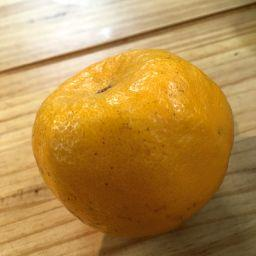Ripe: (31, 50, 237, 235)
